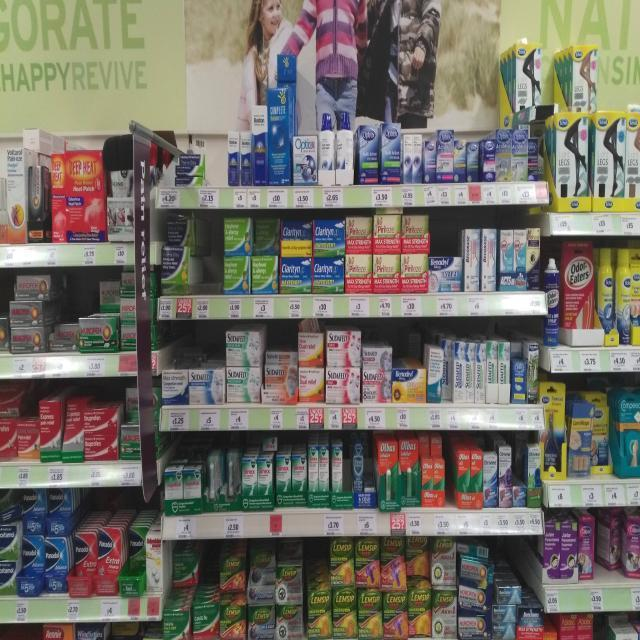empty: (207, 134, 227, 208), (211, 213, 224, 320)
